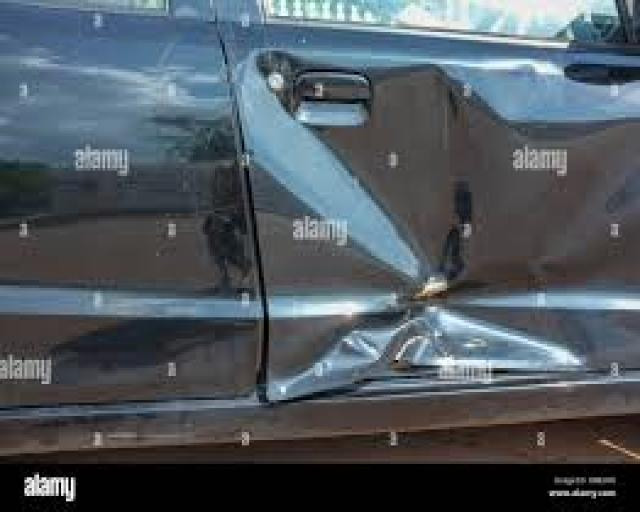dent: (228, 43, 605, 409)
